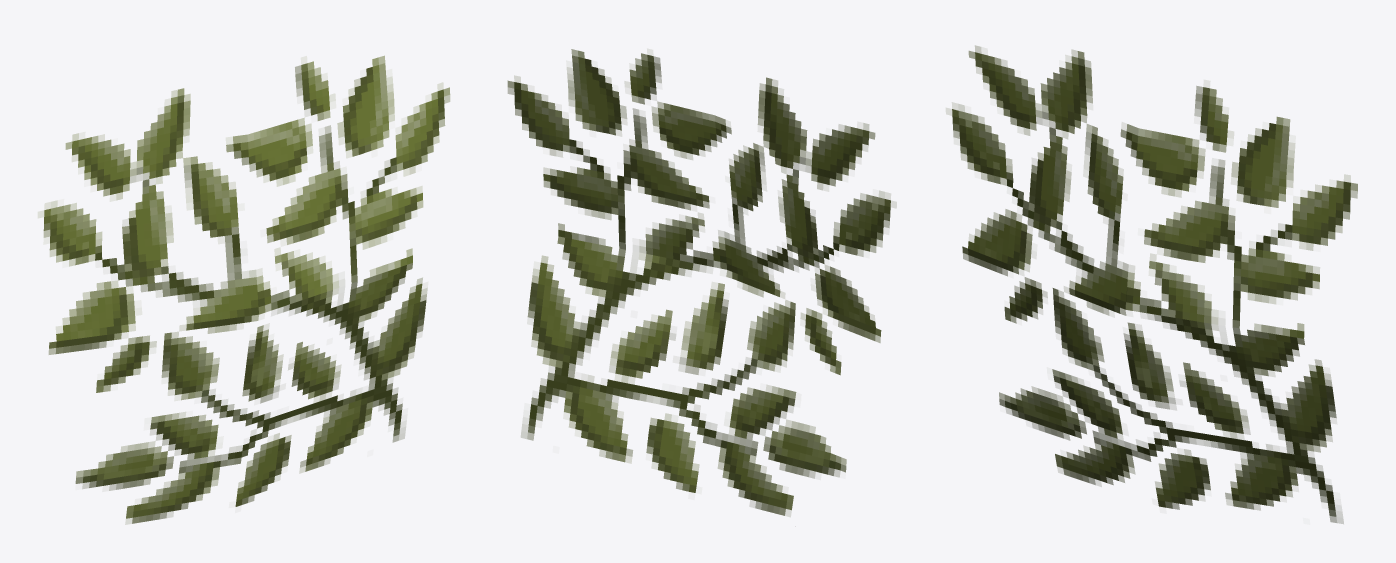
The model's file is vine_single.glb.
3 views of the same model, side by side, from view 1: azimuth 30°, elevation 25°; view 2: azimuth 150°, elevation 25°; view 3: azimuth 330°, elevation 25° (orthographic). The views are drawn at different scales.
Parts seen in each view (by area): view 1: vine_single; view 2: vine_single; view 3: vine_single.
Part boxes in pixels (bbox=[...]): vine_single: bbox=[38, 55, 450, 523]; vine_single: bbox=[507, 49, 896, 516]; vine_single: bbox=[946, 45, 1357, 523].
Bounding box in the file's own units: 0.502 × 0.5175 × 0.0822.
Materials: 1 (1 with a texture image).
